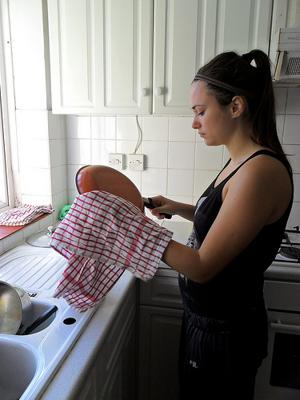person: (53, 49, 295, 398)
